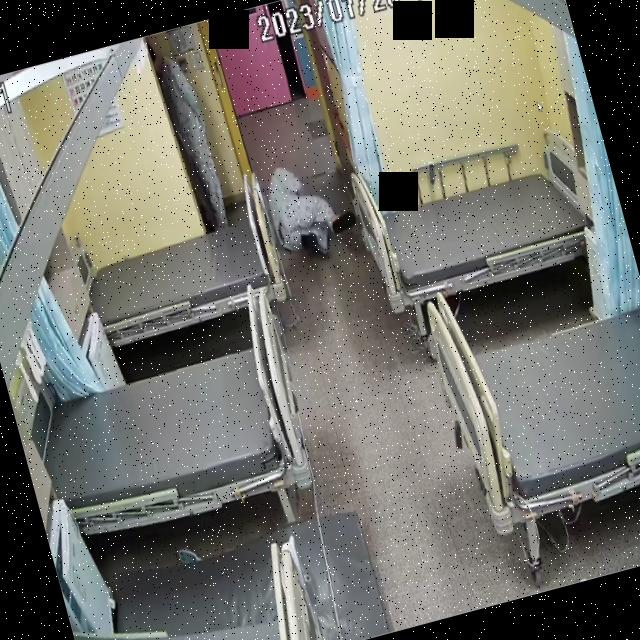bed: (417, 241, 640, 535), (24, 329, 318, 544), (352, 140, 609, 316), (80, 204, 288, 348)
fall: (255, 146, 368, 278)
patient: (148, 26, 232, 233), (256, 147, 365, 275)
stand: (145, 26, 232, 232)
